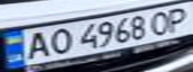4: (75, 20, 100, 50)
6: (112, 16, 136, 44)
8: (127, 12, 151, 41)
9: (93, 18, 118, 47)
A: (18, 29, 54, 61)
O: (42, 26, 75, 55), (145, 8, 175, 36)
P: (163, 4, 193, 33)
